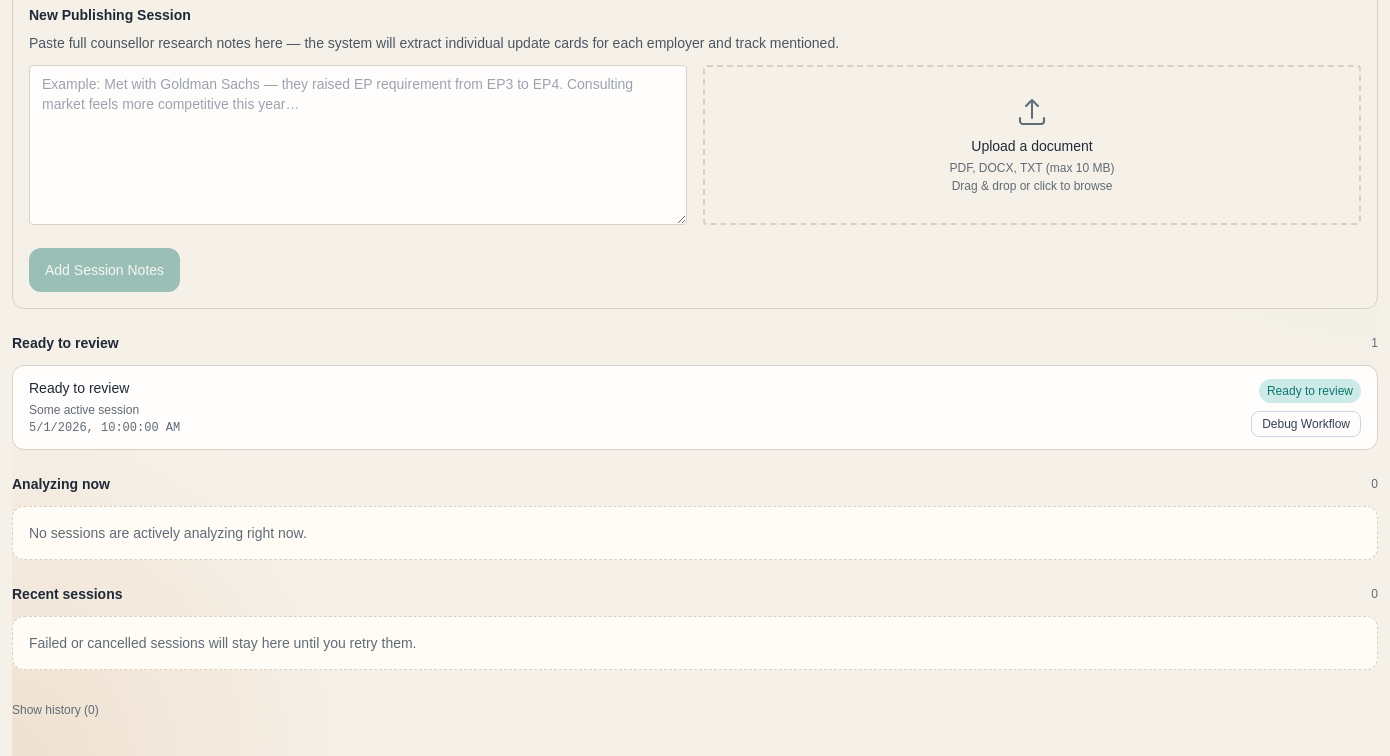
Test: SessionInbox › shows 'No history yet.' when history is expanded but empty
The image size is (1390, 756).
Click the button "Show history (0)" at (55, 710), box [12,694,99,726]
(page scrolled)
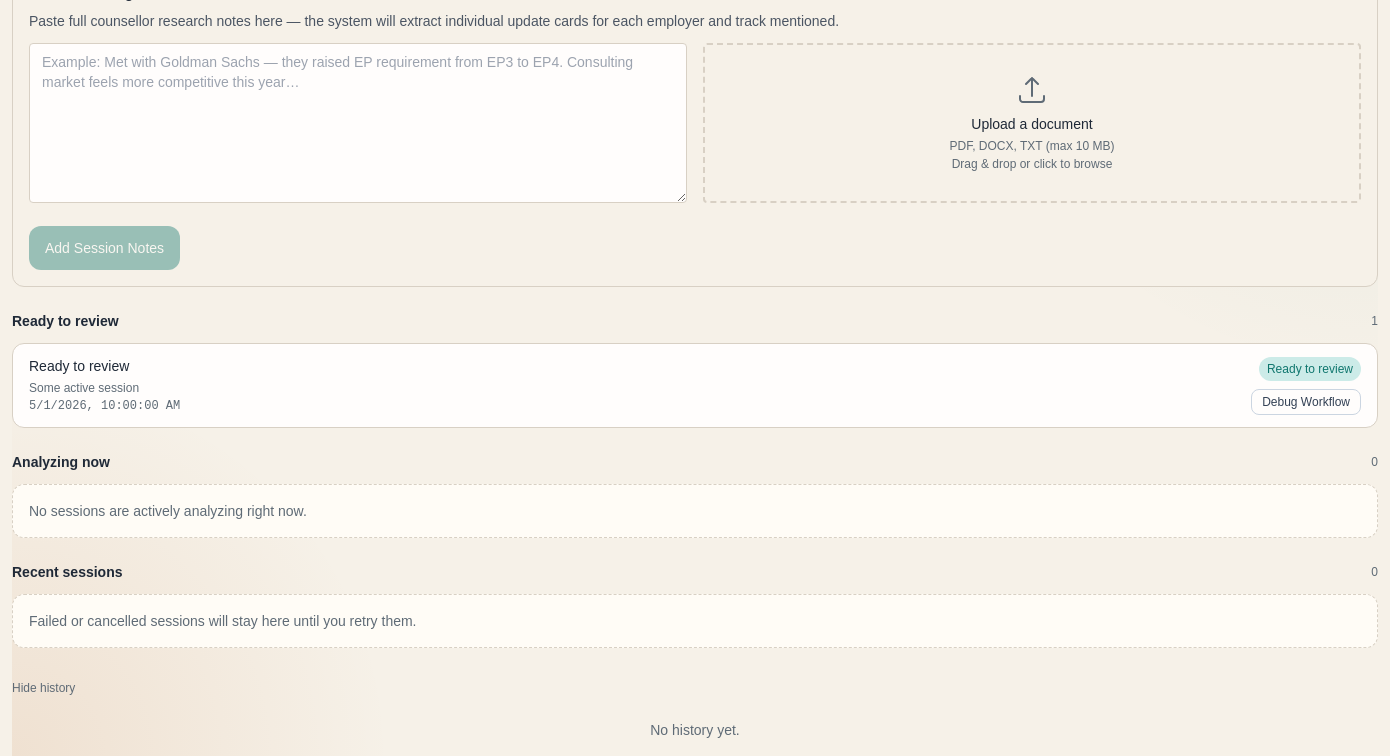
expect the text "No history yet." is shown: met, box [650,722,740,738]
